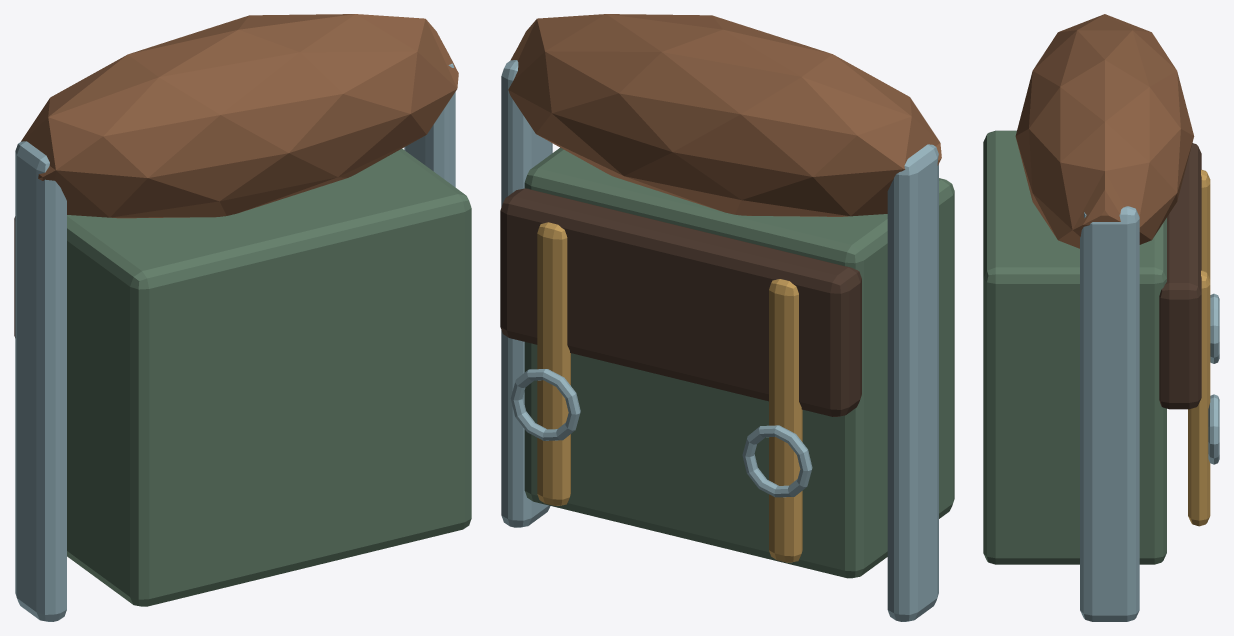
Rendered from backpack_frame.glb.
The picture shows the model from 3 angles, left to right: view 1: azimuth 30°, elevation 25°; view 2: azimuth 150°, elevation 25°; view 3: azimuth 270°, elevation 25°; orthographic projection. The views are drawn at different scales.
Parts seen in each view (by area): view 1: CanvasPack.001, Bedroll.005, Buckle.001; view 2: CanvasPack.001, Bedroll.005, LeatherFlap.001, Buckle.001, PackStrap.001; view 3: CanvasPack.001, Bedroll.005, Buckle.001, LeatherFlap.001, PackStrap.001.
Part boxes in pixels (box(x1,y1,x2,y2)): CanvasPack.001: box(67, 148, 471, 606); Bedroll.005: box(21, 14, 458, 218); Buckle.001: box(15, 63, 455, 621); CanvasPack.001: box(524, 147, 954, 578); Bedroll.005: box(508, 14, 941, 216); LeatherFlap.001: box(500, 188, 861, 416); Buckle.001: box(501, 60, 938, 621); PackStrap.001: box(537, 222, 802, 562); CanvasPack.001: box(983, 130, 1166, 564); Bedroll.005: box(1015, 14, 1194, 248); Buckle.001: box(1080, 206, 1219, 621); LeatherFlap.001: box(1159, 143, 1201, 409); PackStrap.001: box(1188, 169, 1210, 526).
Bounding box in the file's own units: 0.86 × 1.06 × 0.4763.
